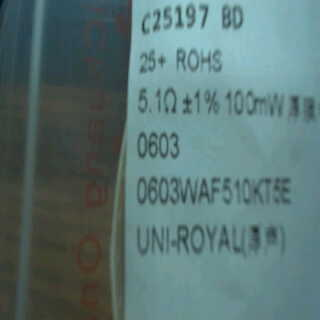5.1R: (136, 84, 182, 119)
